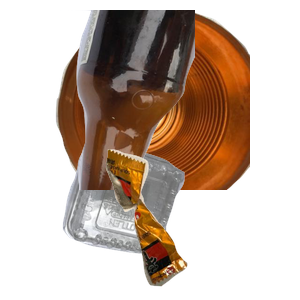glass: (60, 10, 300, 190)
metal: (53, 10, 293, 190)
plastic: (60, 136, 237, 300)
trash: (103, 147, 300, 300)
